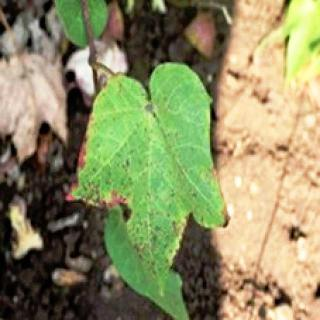leaf spot: (66, 67, 232, 299)
